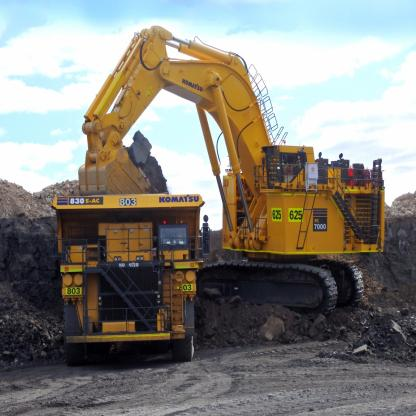dump_truck: (50, 189, 206, 365)
excavator: (77, 20, 381, 306)
